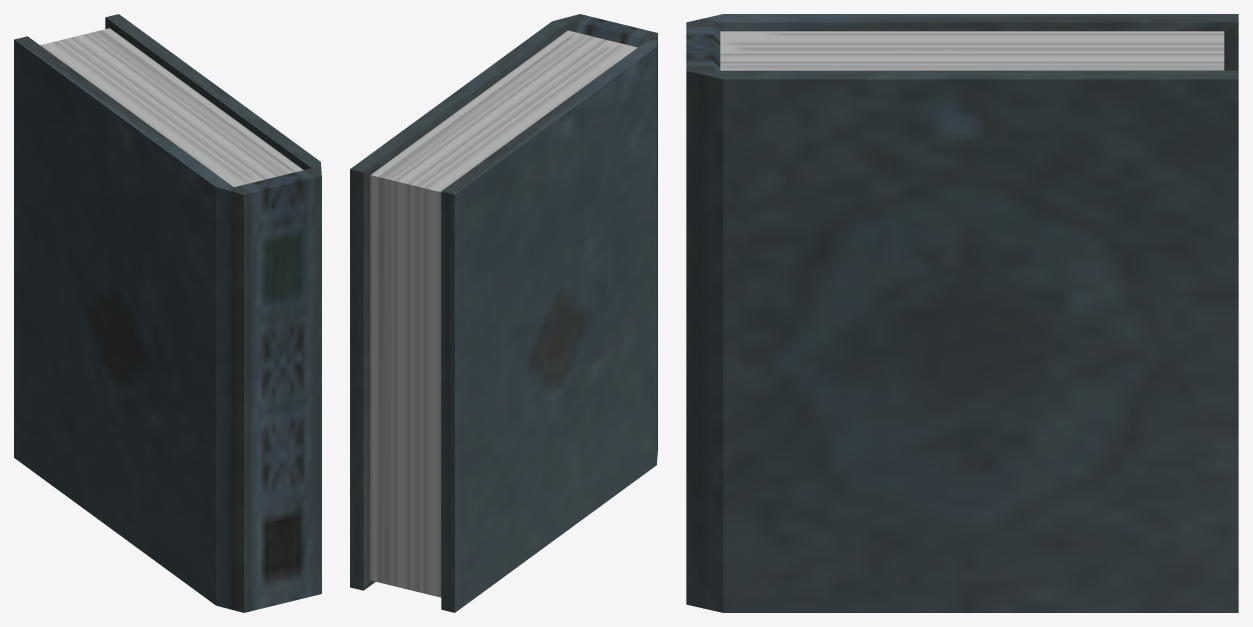
Rendered from livro1.fbx.
3 views of the same model, side by side, from view 1: azimuth 30°, elevation 25°; view 2: azimuth 150°, elevation 25°; view 3: azimuth 270°, elevation 25° (orthographic). The views are drawn at different scales.
Parts seen in each view (by area): view 1: Cube.002; view 2: Cube.002; view 3: Cube.002.
Part boxes in pixels (x1,y1,x2,y2): Cube.002: (14,14,321,612); Cube.002: (350,14,657,612); Cube.002: (686,14,1238,612).
Size of the model in its own units: 14.87 by 56.73 by 53.22.
Materials: 1 (1 with a texture image).
